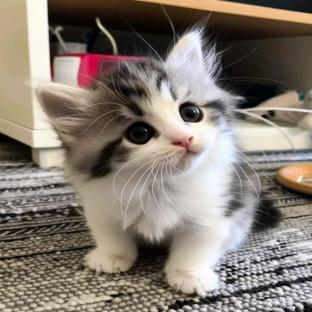Animal: (36, 28, 280, 296)
